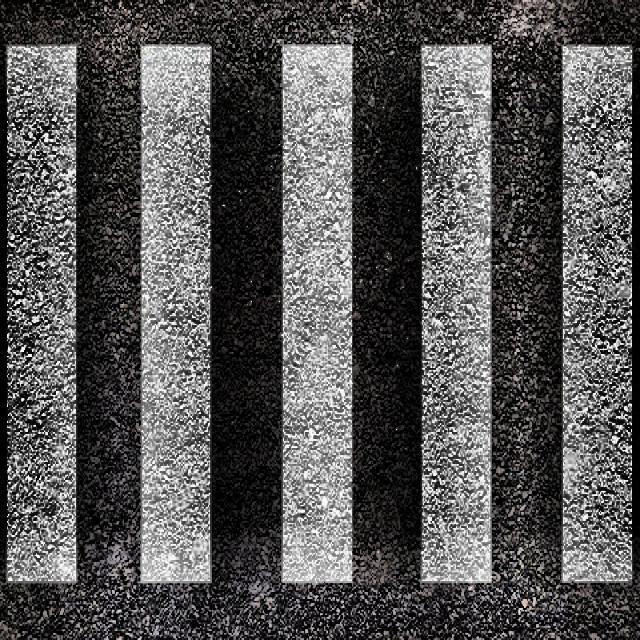intact_crosswalk: (7, 46, 633, 588)
